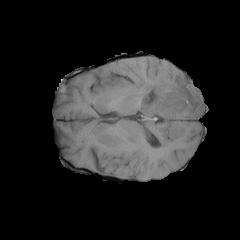glioma: (94, 63, 203, 146)
